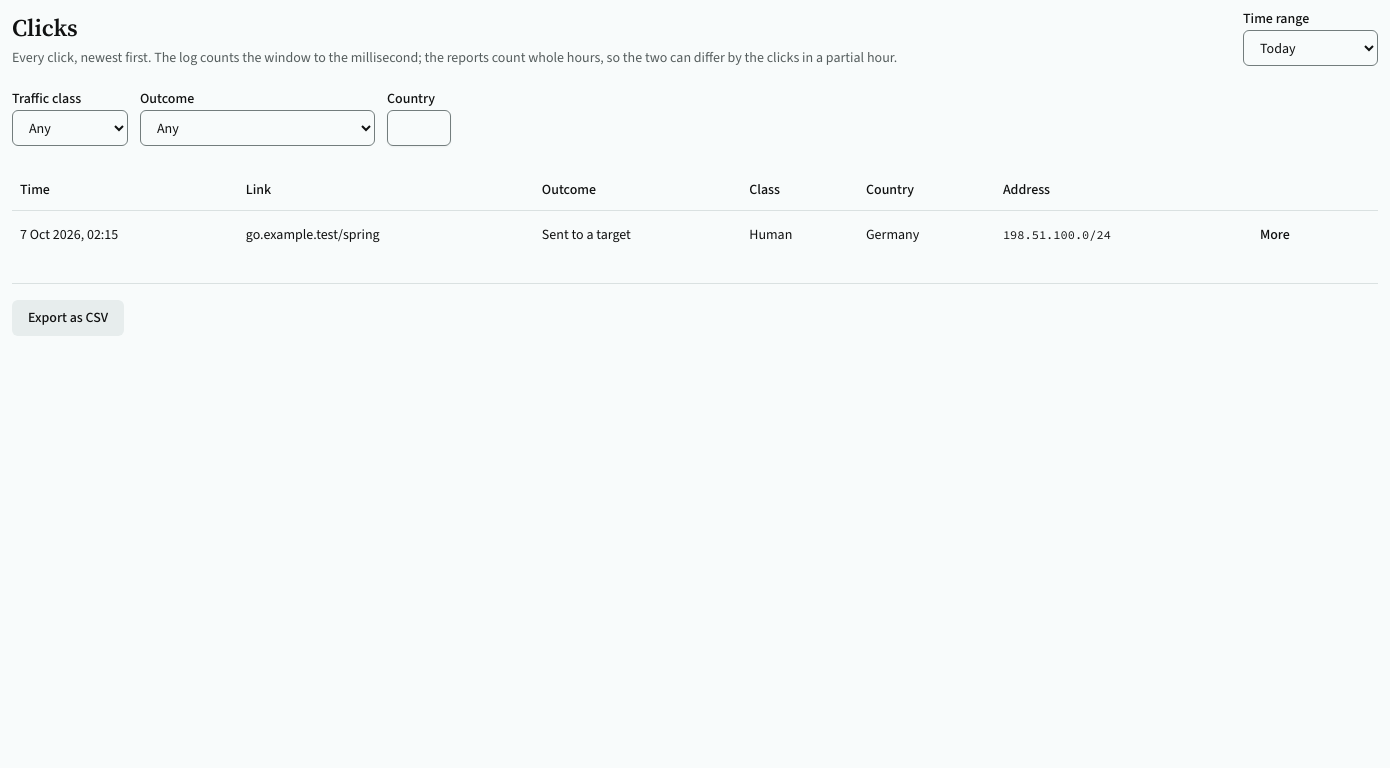
Scenario: the click log › shows every field of a click on request
Click the button with aria-label "Show every field of this click" at (1275, 234), box [1248,218,1302,250]
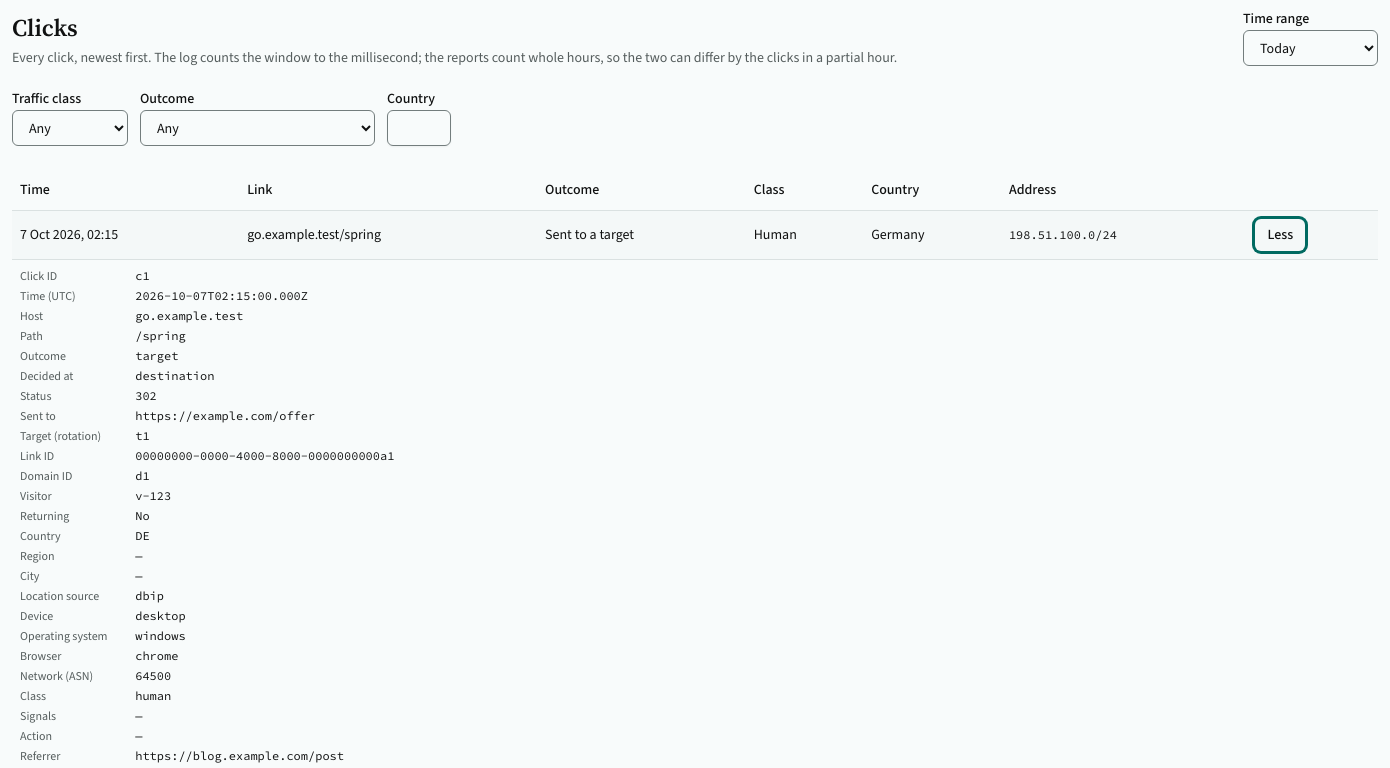
Expected: the text "c1" is shown, [135,268,150,282]
Expected: the text "t1" is shown, [135,428,150,442]
Expected: the text "00000000-0000-4000-8000-0000000000a1" is shown, [135,448,394,462]
